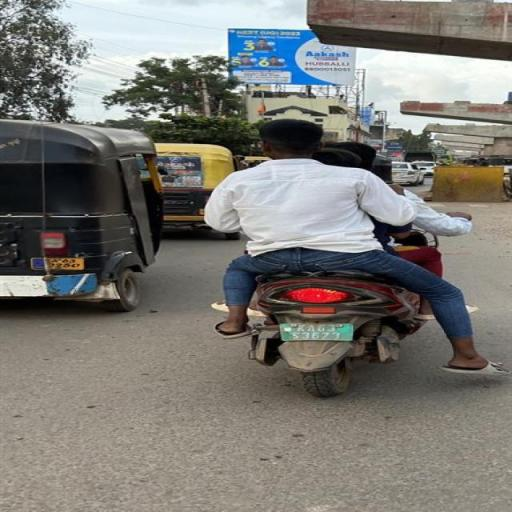tripple riding: (183, 116, 456, 274)
